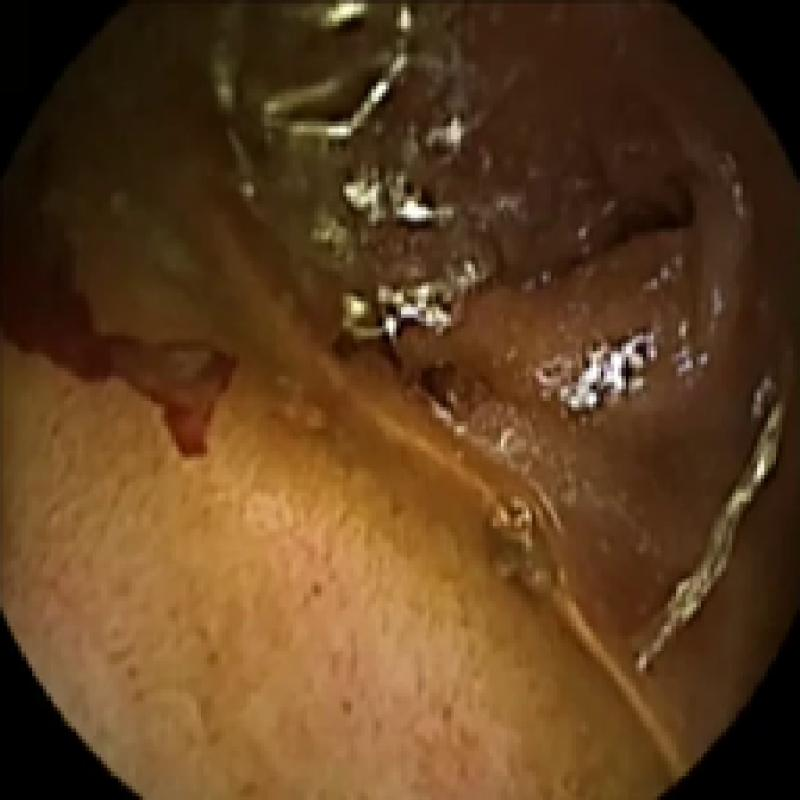bleeding: (0, 132, 236, 454), (565, 169, 701, 272), (332, 326, 459, 405)
